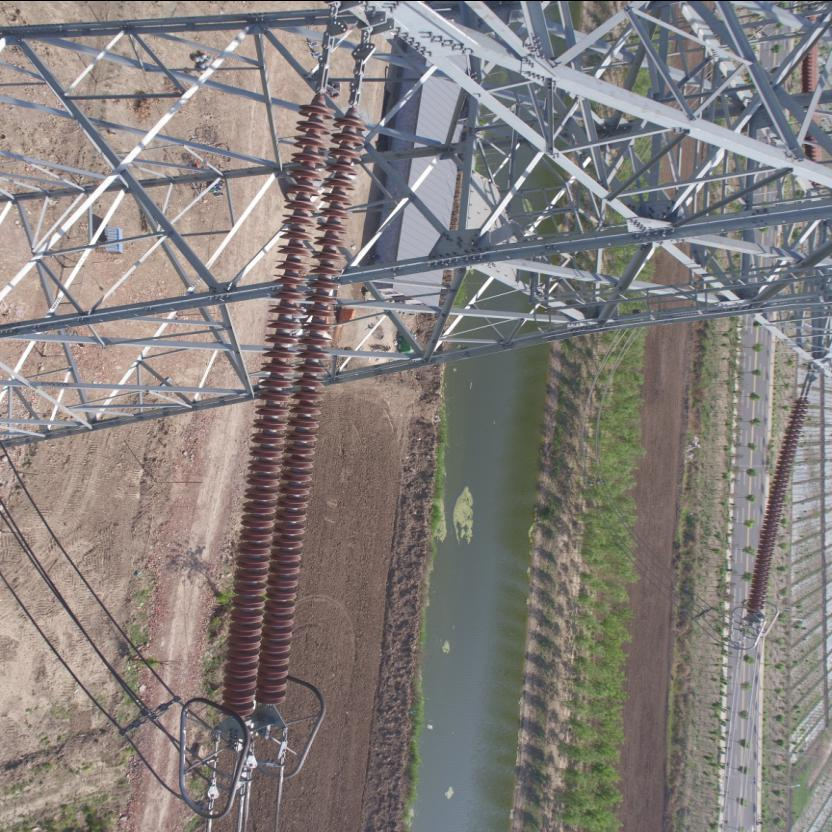insulator: (218, 65, 372, 726), (746, 388, 814, 620)
